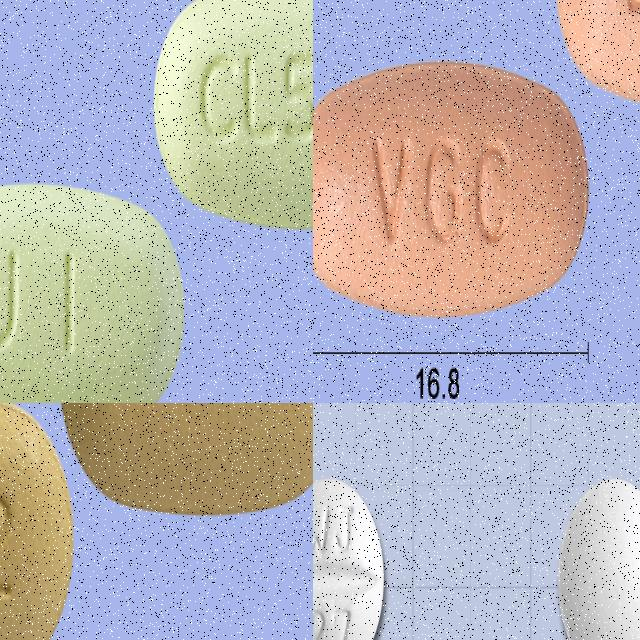Exviera: (59, 403, 313, 514), (0, 403, 74, 640)
Jecli: (0, 179, 183, 403), (154, 0, 313, 228)
Megarokshin: (558, 477, 640, 640), (313, 478, 384, 640)
Valtrex Tab: (313, 58, 589, 319)
